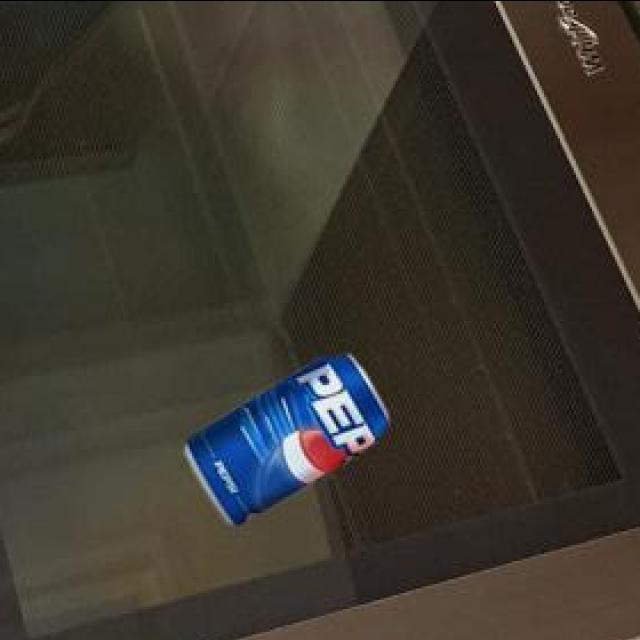logam: (182, 358, 385, 527)
